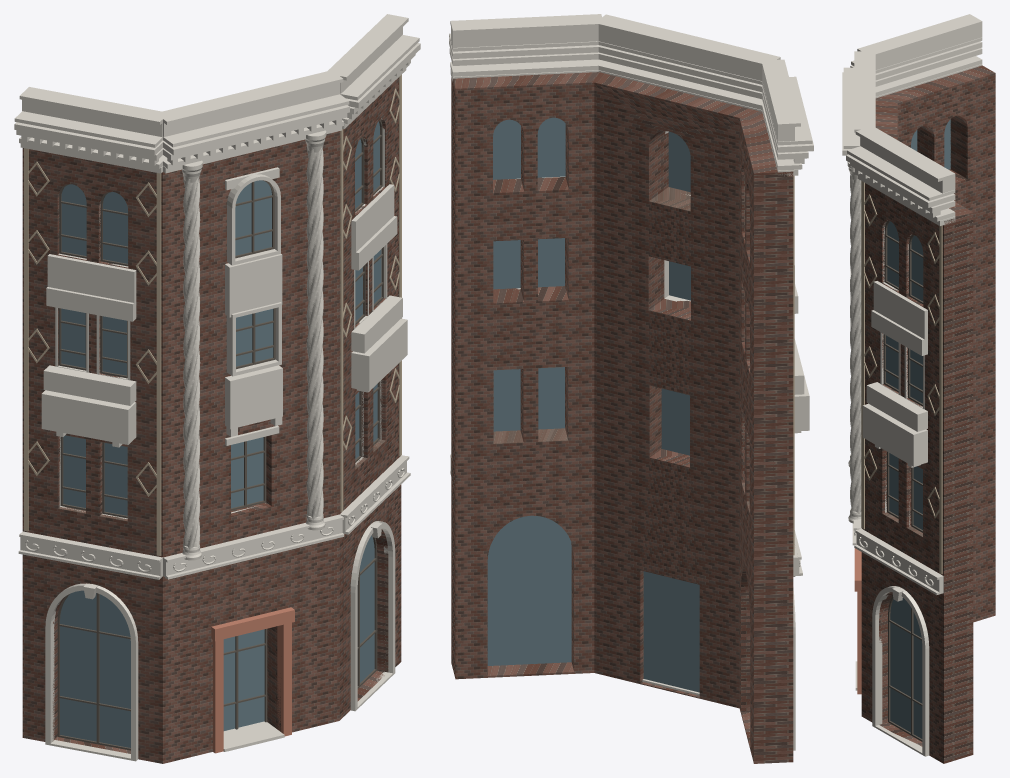
The model's file is huangpu-china-hotel-spiral-column-corner-web.glb.
The picture shows the model from 3 angles, left to right: view 1: azimuth 30°, elevation 25°; view 2: azimuth 150°, elevation 25°; view 3: azimuth 270°, elevation 25°; orthographic projection. The views are drawn at different scales.
Visible parts, largest first — view 1: 中国大饭店西南切角螺旋柱窗墙; view 2: 中国大饭店西南切角螺旋柱窗墙; view 3: 中国大饭店西南切角螺旋柱窗墙.
Part boxes in pixels (x1,y1,x2,y2): 中国大饭店西南切角螺旋柱窗墙: [14, 14, 420, 763]; 中国大饭店西南切角螺旋柱窗墙: [449, 14, 813, 763]; 中国大饭店西南切角螺旋柱窗墙: [842, 14, 995, 763].
Bounding box in the file's own units: 10.86 × 17.27 × 4.08.
Materials: 6 (1 with a texture image).
